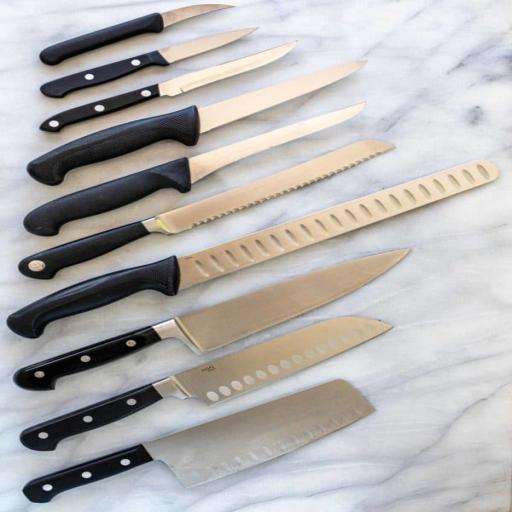knife: (17, 244, 423, 394)
